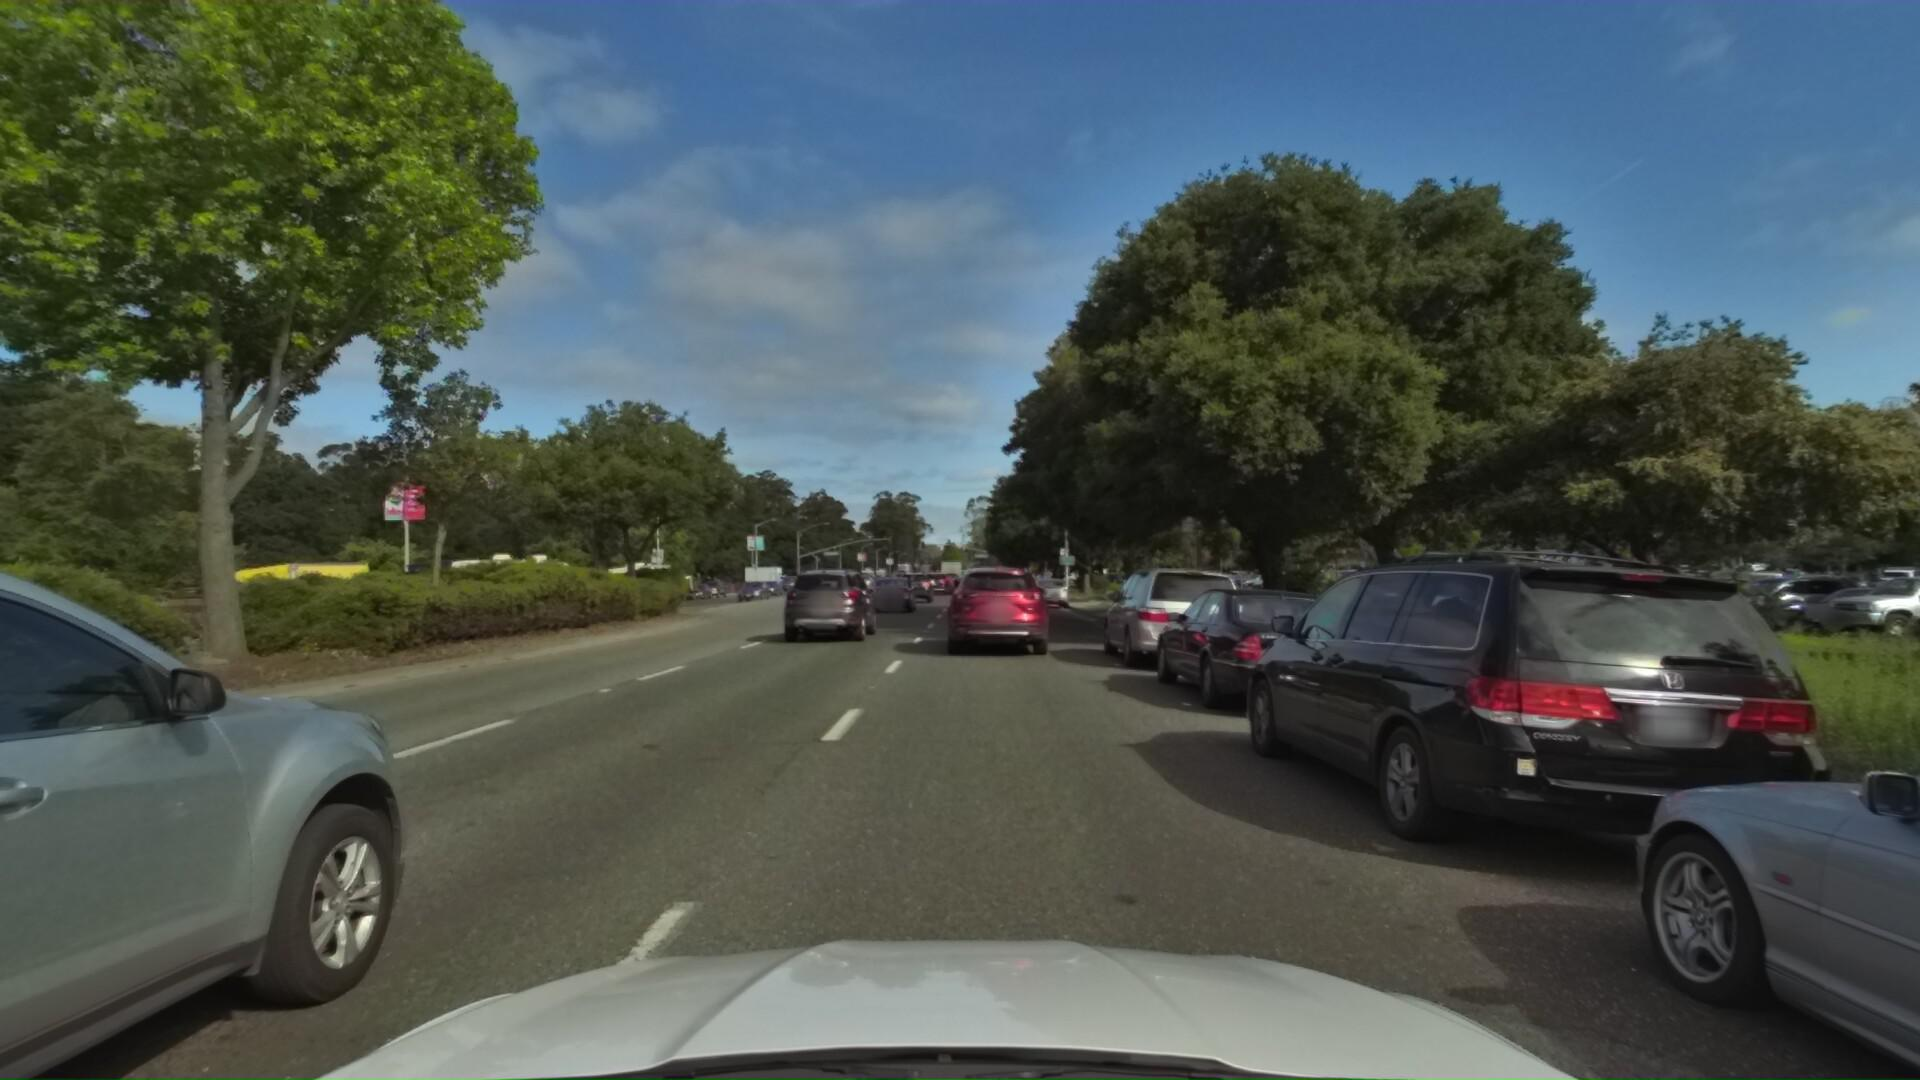car: (0, 0, 477, 1080), (1225, 514, 1913, 938), (1571, 618, 1920, 1080), (1139, 576, 1399, 732), (1092, 556, 1262, 680), (938, 560, 1059, 663), (36, 600, 200, 655), (775, 566, 880, 649), (868, 576, 922, 618), (889, 571, 934, 607), (1025, 571, 1069, 605), (955, 574, 997, 604), (729, 584, 771, 608), (1019, 571, 1054, 599), (918, 572, 949, 596)
other_vehicle: (440, 546, 571, 616), (597, 556, 676, 605)
truck: (171, 553, 375, 640), (342, 553, 473, 626)
